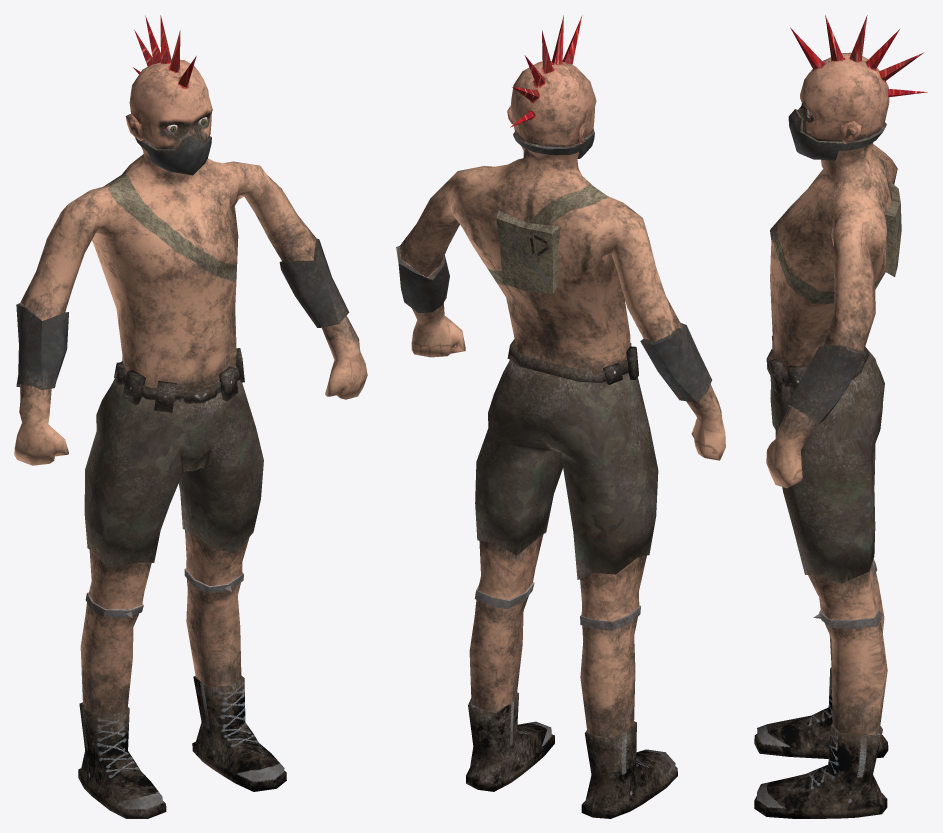
Rendered from Anim_idle_npc2.0038.obj.
The picture shows the model from 3 angles, left to right: view 1: azimuth 30°, elevation 25°; view 2: azimuth 150°, elevation 25°; view 3: azimuth 270°, elevation 25°; orthographic projection. The views are drawn at different scales.
Visible parts, largest first — view 1: polySurface1; view 2: polySurface1; view 3: polySurface1.
Boxes of the visible parts, box(x1,y1,x2,y2) form: polySurface1: box(14, 15, 367, 818); polySurface1: box(396, 15, 725, 818); polySurface1: box(754, 15, 927, 818).
Size of the model in its own units: 4.66 by 10.18 by 2.1.
